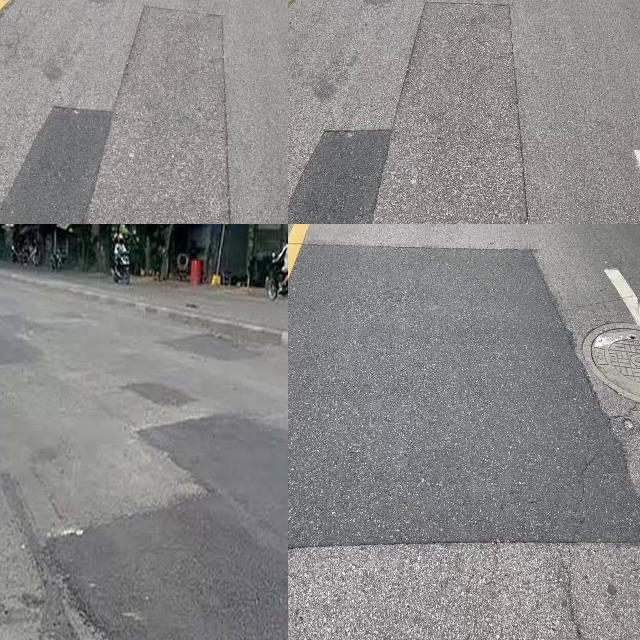Sambungan: (288, 242, 640, 549), (39, 412, 288, 640), (288, 3, 530, 224), (0, 5, 233, 224), (0, 313, 55, 367)
